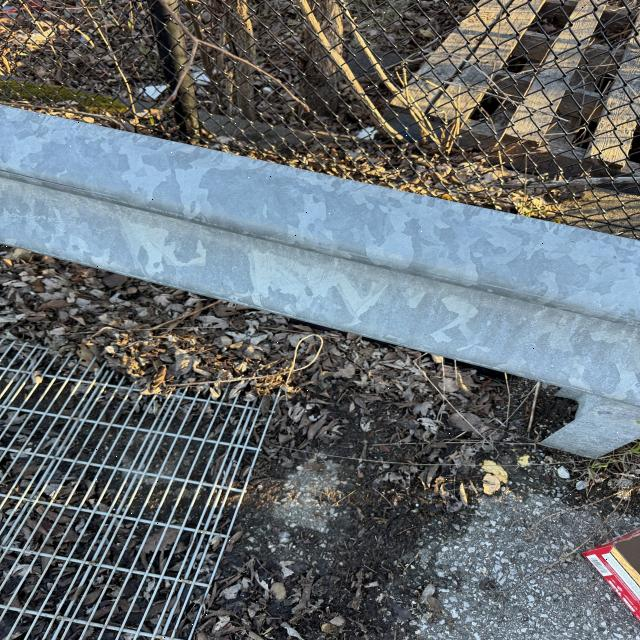Guard rail: (2, 124, 611, 339)
